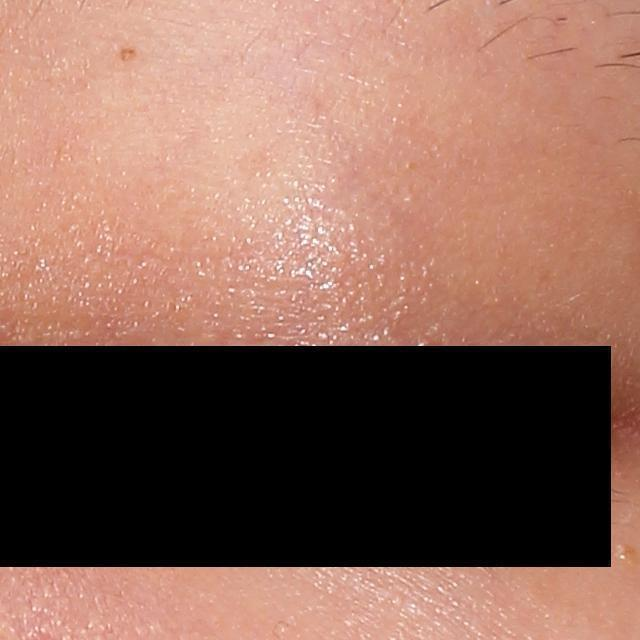nevus: (117, 45, 140, 65)
